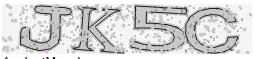5: (129, 3, 187, 52)
C: (184, 7, 240, 55)
J: (19, 4, 73, 52)
K: (71, 5, 124, 55)
